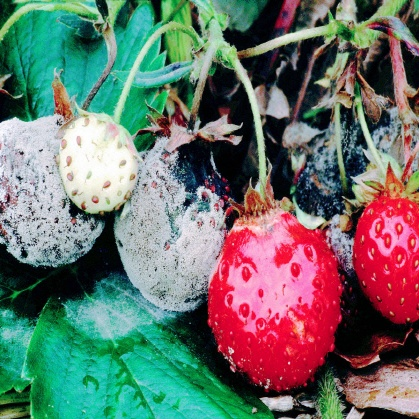Gray_Mold: (66, 69, 418, 267), (177, 84, 306, 313)
